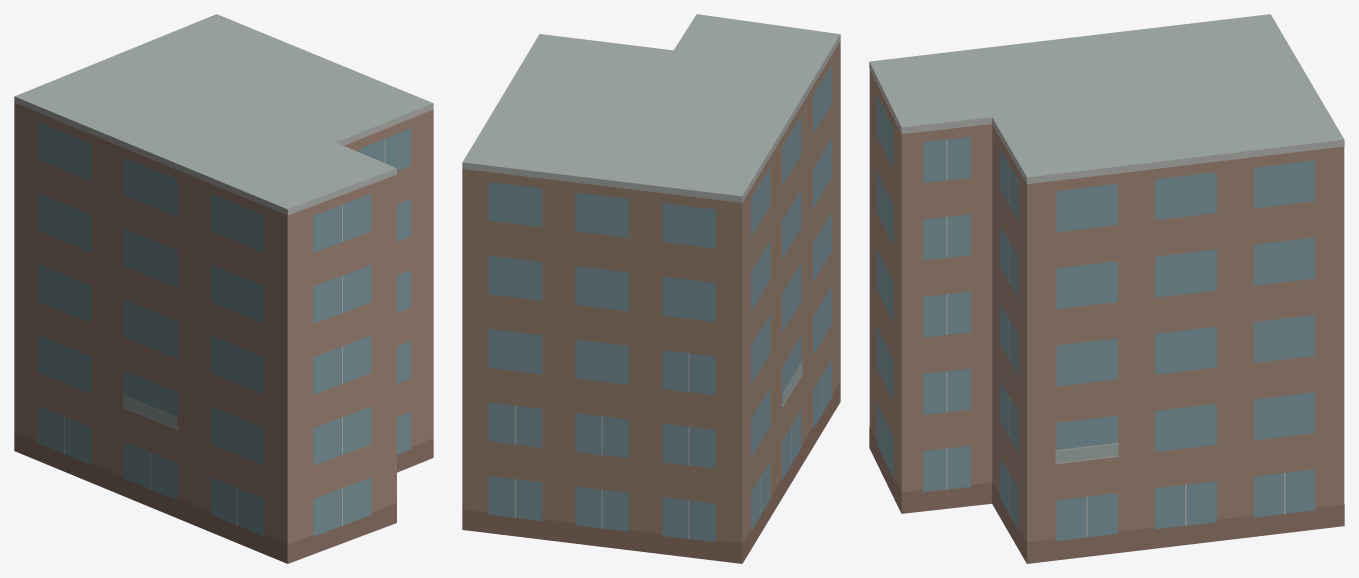
The model's file is survey-upis-32869953.glb.
3 views of the same model, side by side, from view 1: azimuth 30°, elevation 25°; view 2: azimuth 150°, elevation 25°; view 3: azimuth 270°, elevation 25° (orthographic). The views are drawn at different scales.
Visible parts, largest first — view 1: survey-upis-32869953.tmp; view 2: survey-upis-32869953.tmp; view 3: survey-upis-32869953.tmp.
Boxes of the visible parts, x1,y1,x2,y2 form: survey-upis-32869953.tmp: [14, 14, 433, 563]; survey-upis-32869953.tmp: [462, 14, 840, 563]; survey-upis-32869953.tmp: [869, 14, 1344, 563].
Size of the model in its own units: 12.63 by 13.9 by 15.5.
